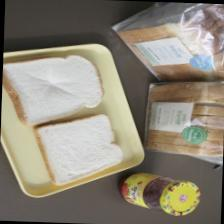bread: (0, 51, 104, 129), (30, 111, 124, 188)
